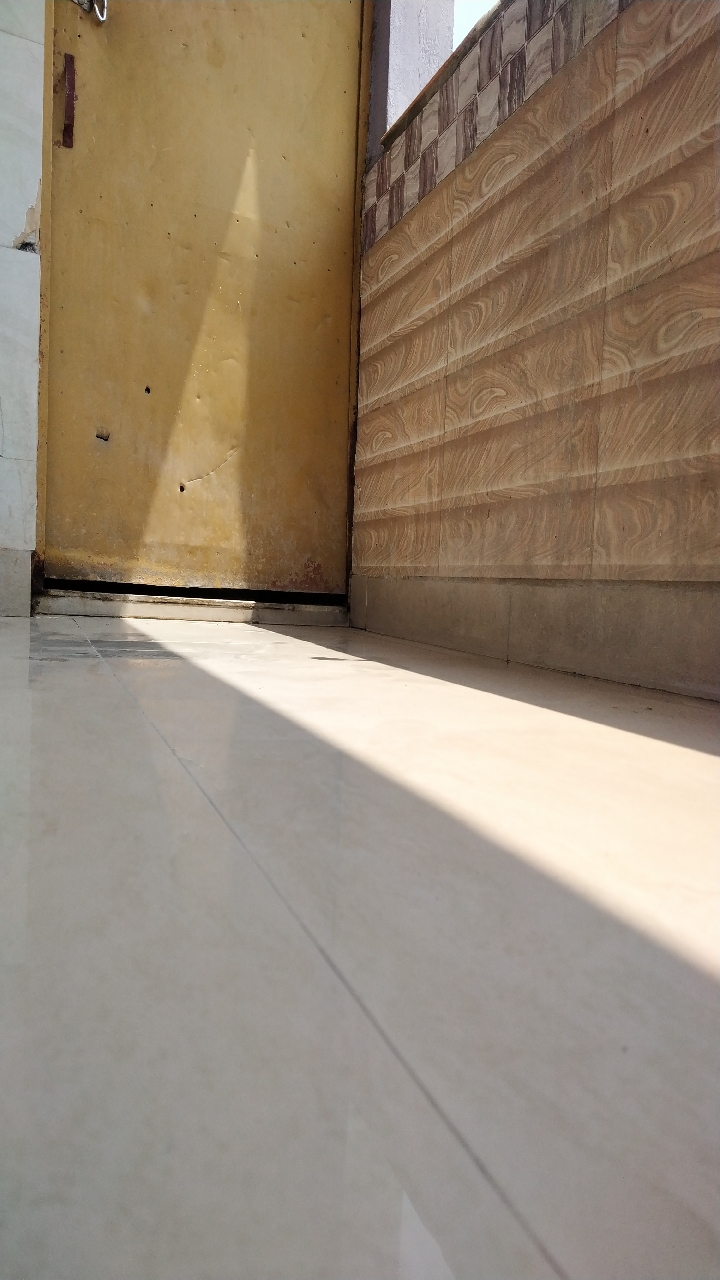Doors: (31, 241, 371, 641)
